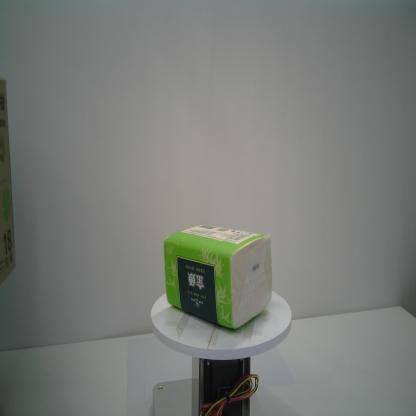Tissue: (163, 224, 273, 330)
